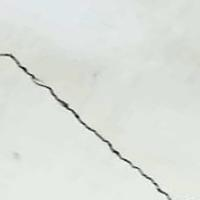crack: (0, 47, 172, 199)
